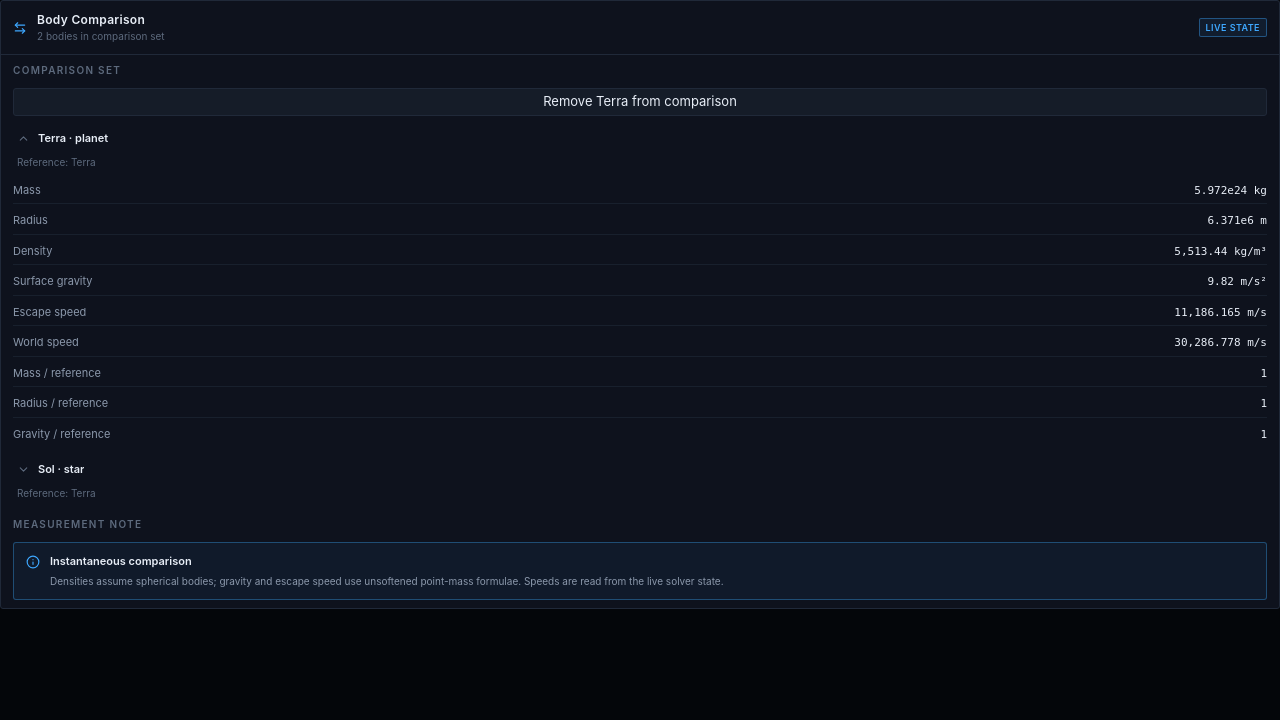
Scenario: extra simulator panels › BodyComparisonPanel compares the flagged set through the UI store
Expected: the text "Body Comparison" is shown, [37,12,145,27]
Expected: the text "2 bodies in comparison set" is shown, [37,30,165,42]
Click the button "Remove Terra from comparison" at x=640, y=102, box [13,88,1267,116]
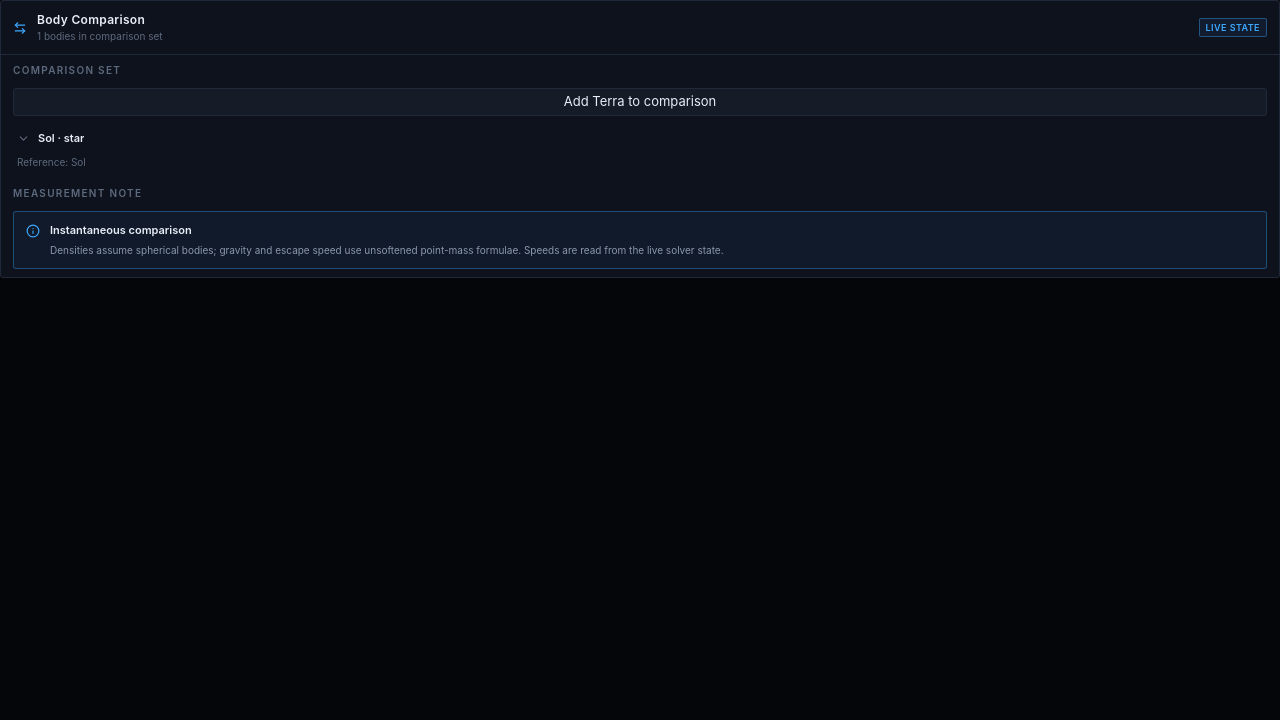
Result: the button "Add Terra to comparison" is shown at [13,88,1267,116]
